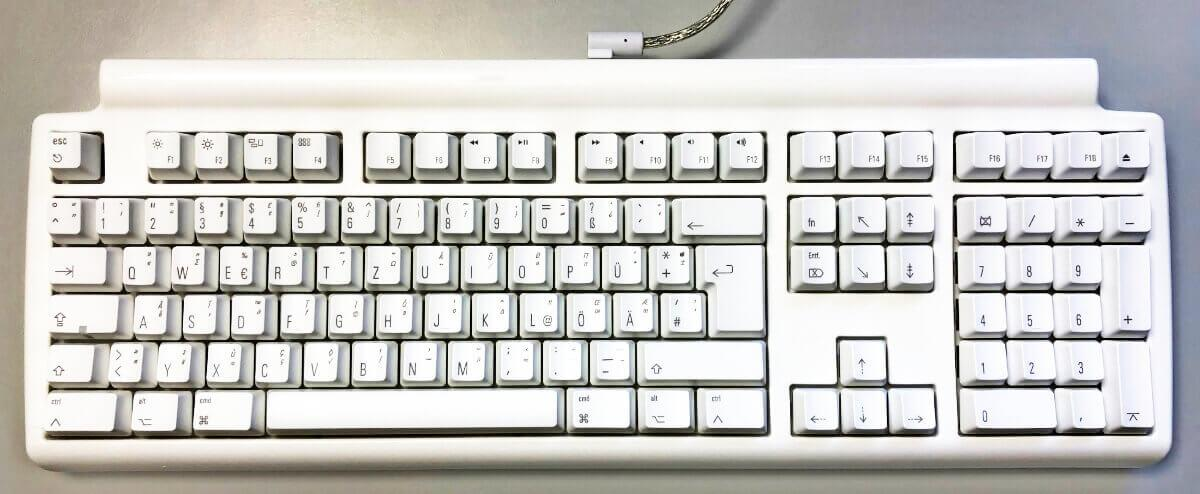0: (530, 194, 571, 234)
1: (93, 194, 129, 234)
2: (142, 194, 179, 234)
3: (191, 193, 229, 233)
4: (240, 194, 277, 233)
5: (289, 193, 326, 233)
6: (339, 193, 376, 233)
7: (387, 194, 424, 233)
8: (436, 194, 475, 233)
9: (484, 194, 524, 233)
a: (132, 289, 169, 333)
accent: (623, 193, 666, 233)
ae: (611, 287, 655, 332)
alt-left: (127, 387, 177, 431)
altgr-right: (640, 386, 695, 431)
b: (351, 336, 393, 380)
c: (256, 337, 295, 381)
caret: (45, 195, 81, 233)
comma: (493, 335, 536, 379)
d: (231, 289, 271, 333)
del: (672, 192, 762, 235)
e: (219, 241, 256, 284)
enter: (693, 239, 763, 331)
f: (280, 288, 317, 333)
g: (328, 288, 368, 333)
h: (376, 288, 417, 332)
hash: (657, 287, 703, 332)
i: (461, 240, 501, 282)
j: (425, 288, 465, 332)
k: (471, 288, 512, 332)
keyboard: (18, 84, 1181, 472)
l: (519, 288, 560, 332)
less: (106, 337, 143, 380)
m: (446, 336, 489, 381)
minus: (587, 335, 630, 379)
n: (400, 336, 443, 381)
o: (510, 241, 549, 282)
oe: (567, 290, 611, 335)
p: (555, 243, 597, 286)
plus: (647, 241, 690, 284)
point: (541, 335, 583, 379)
q: (122, 242, 157, 283)
r: (268, 242, 305, 284)
s: (181, 292, 221, 336)
shift-left: (43, 341, 91, 382)
shift-lock: (46, 290, 118, 333)
shift-right: (636, 335, 763, 379)
space: (263, 383, 559, 429)
ss: (577, 194, 618, 233)
strg-left: (41, 387, 116, 431)
strg-right: (692, 383, 767, 429)
t: (317, 241, 354, 282)
tab: (46, 242, 105, 283)
u: (413, 243, 453, 285)
ue: (600, 240, 642, 283)
v: (304, 336, 345, 380)
w: (171, 241, 207, 283)
x: (207, 337, 245, 380)
y: (157, 338, 193, 381)
z: (365, 241, 405, 283)
